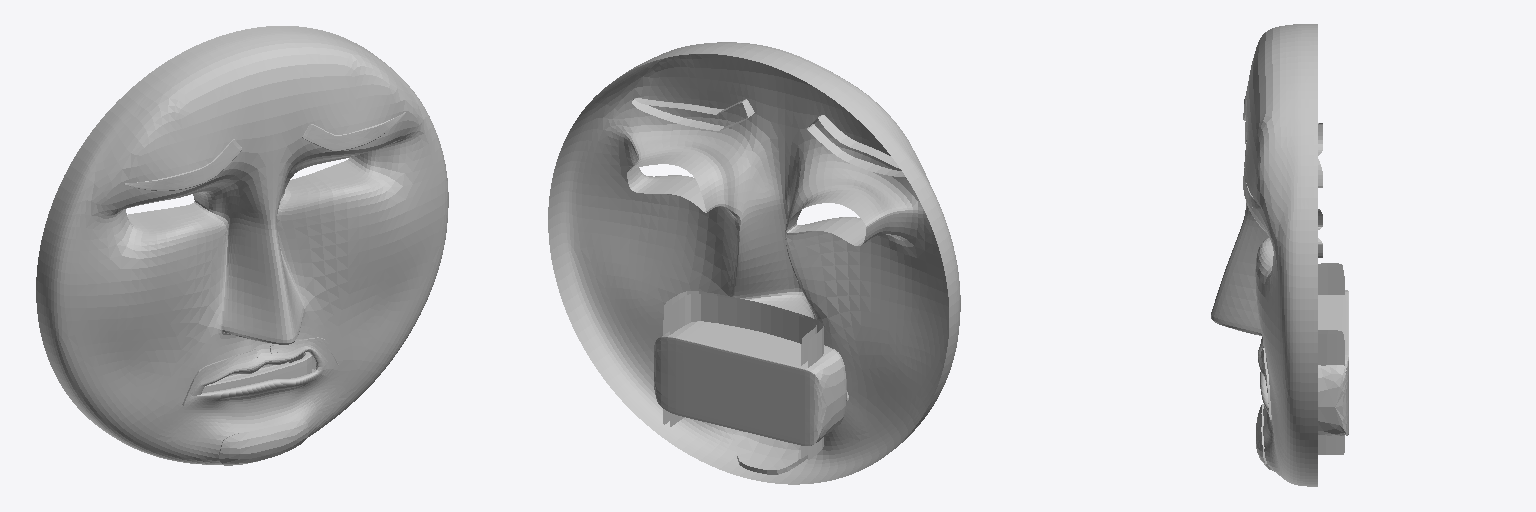
The model's file is worried.obj.
3 views of the same model, side by side, from view 1: azimuth 30°, elevation 25°; view 2: azimuth 150°, elevation 25°; view 3: azimuth 270°, elevation 25° (orthographic).
Visible parts, largest first — view 1: Circle.077_Circle.095; view 2: Circle.077_Circle.095; view 3: Circle.077_Circle.095.
Boxes of the visible parts, <box> form: Circle.077_Circle.095: <box>36,26,448,465</box>; Circle.077_Circle.095: <box>548,42,960,484</box>; Circle.077_Circle.095: <box>1211,24,1348,486</box>.
Bounding box in the file's own units: 50.64 × 50.76 × 15.12.